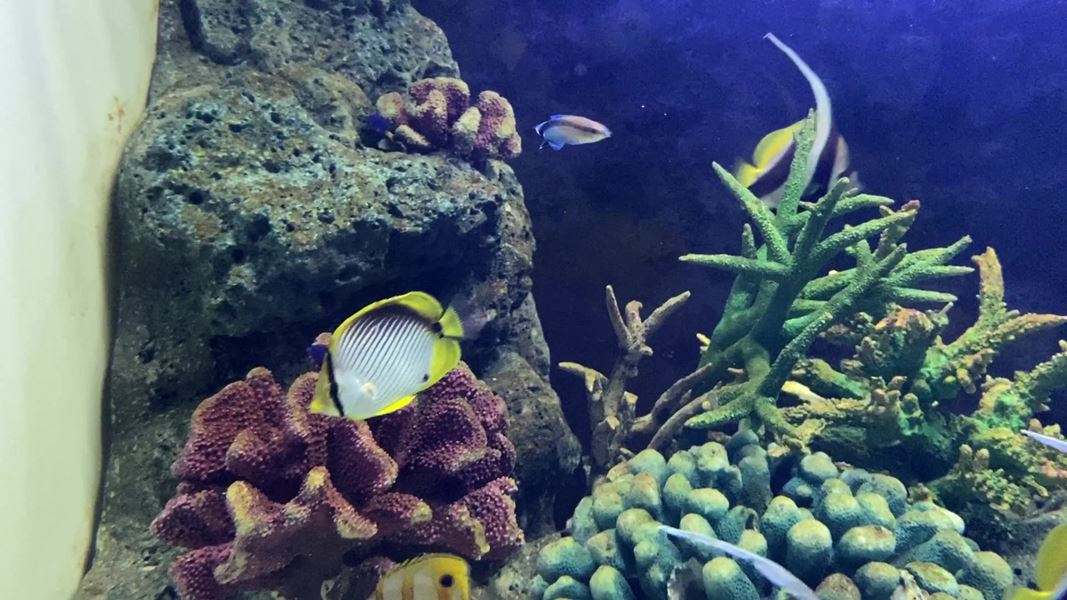Bluesteak cleaner wrasse: (526, 103, 617, 159)
